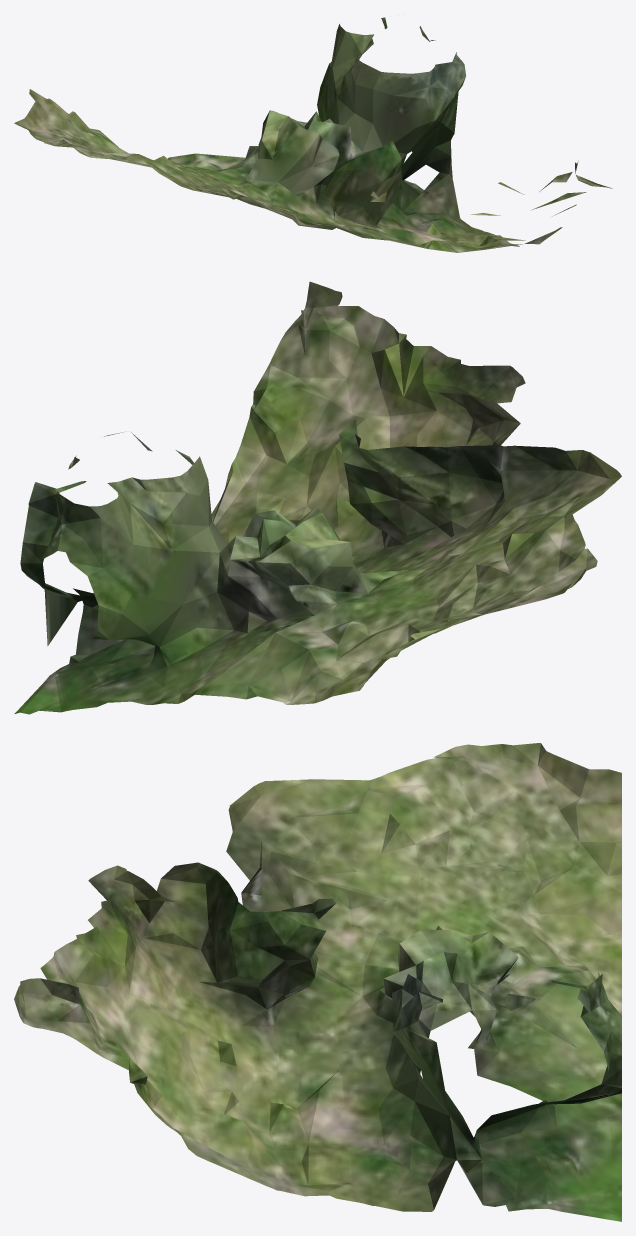
3 renders of one model, top to bottom at view 1: azimuth 30°, elevation 25°; view 2: azimuth 150°, elevation 25°; view 3: azimuth 270°, elevation 25°, orthographic. The views are drawn at different scales.
Bounding box in the file's own units: 34.99 × 14.19 × 35.11.
2 materials, 2 textured.
